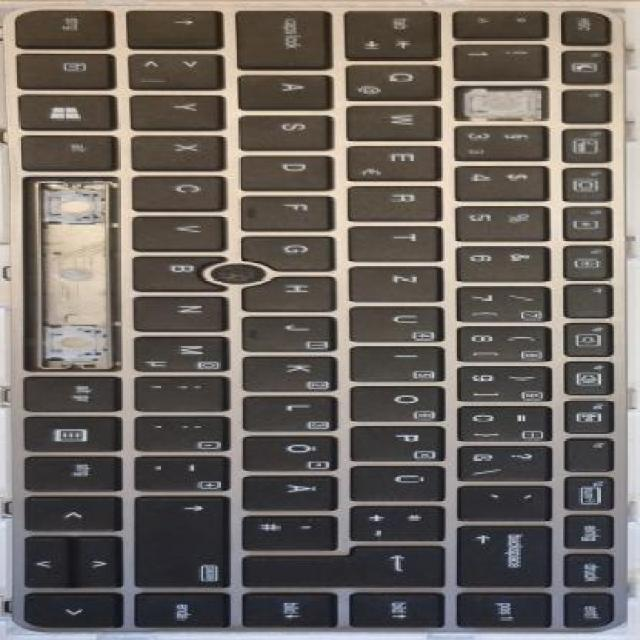Keyboard problems: (25, 178, 117, 371), (455, 86, 548, 118)
